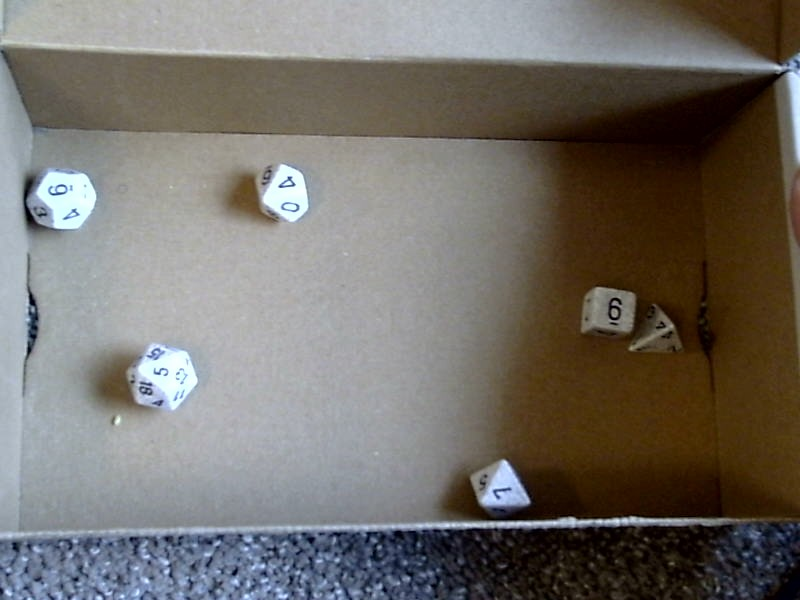d10 4: (246, 154, 319, 231)
d12 6: (22, 157, 102, 240)
d20 5: (122, 332, 209, 413)
d4 4: (629, 301, 692, 361)
d6 6: (570, 278, 638, 340)
d8 7: (459, 453, 537, 522)
